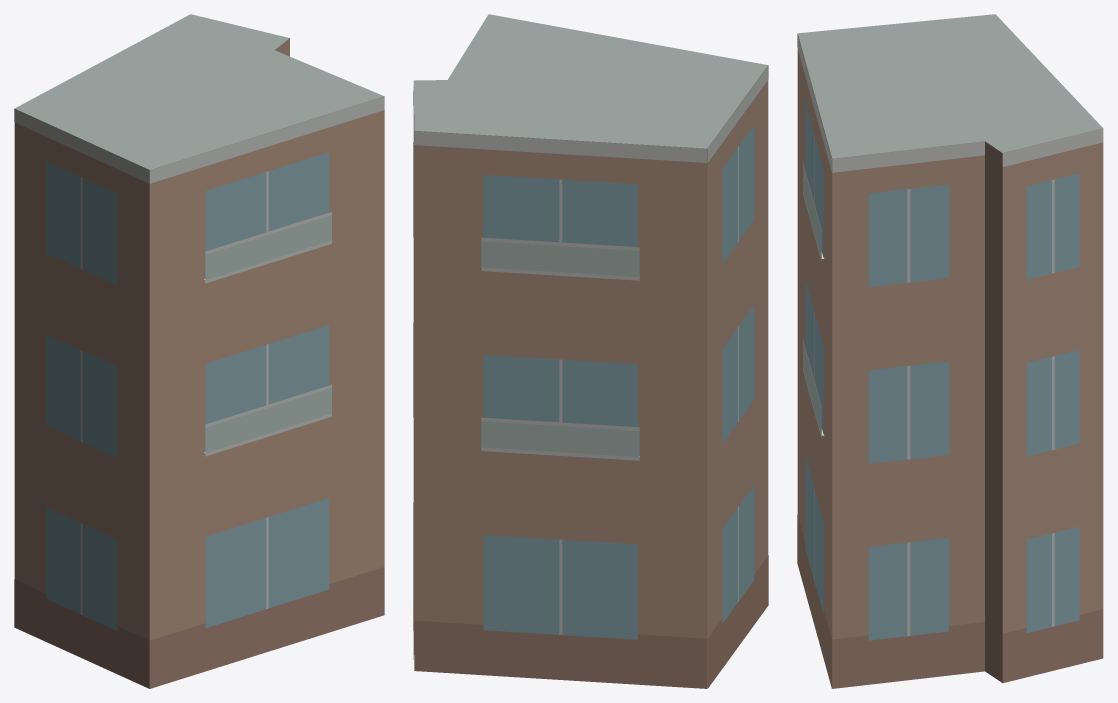
File: survey-upis-32868296.glb
The picture shows the model from 3 angles, left to right: view 1: azimuth 30°, elevation 25°; view 2: azimuth 150°, elevation 25°; view 3: azimuth 270°, elevation 25°; orthographic projection. The views are drawn at different scales.
Visible parts, largest first — view 1: survey-upis-32868296.tmp; view 2: survey-upis-32868296.tmp; view 3: survey-upis-32868296.tmp.
Boxes of the visible parts, x1,y1,x2,y2 form: survey-upis-32868296.tmp: [14, 14, 384, 688]; survey-upis-32868296.tmp: [413, 14, 768, 688]; survey-upis-32868296.tmp: [797, 14, 1103, 688].
Bounding box in the file's own units: 5.37 × 9.15 × 4.79.
